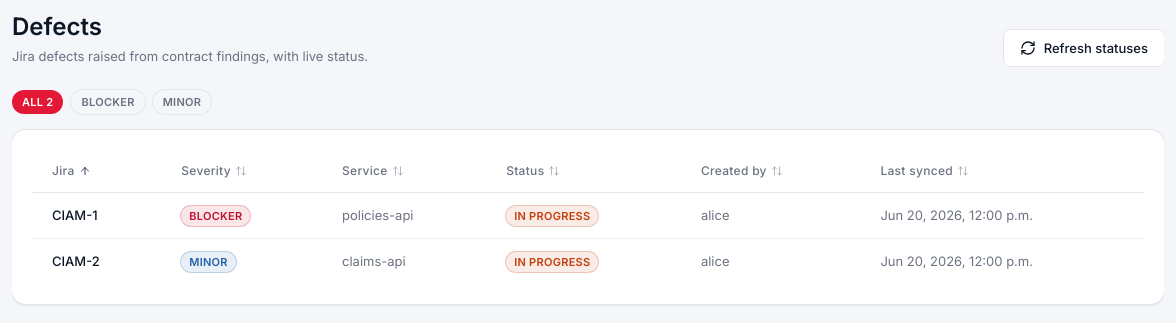
Scenario: Defects page › renders the severity + service columns and filters by a severity chip
Expected: the text "CIAM-1" is shown, [32,192,161,238]
Expected: the text "policies-api" is shown, [322,192,486,238]
Note: Filter to BLOCKER via its chip → only the blocker row survives.
Click the button "Blocker": (108, 102) [72,90,145,114]
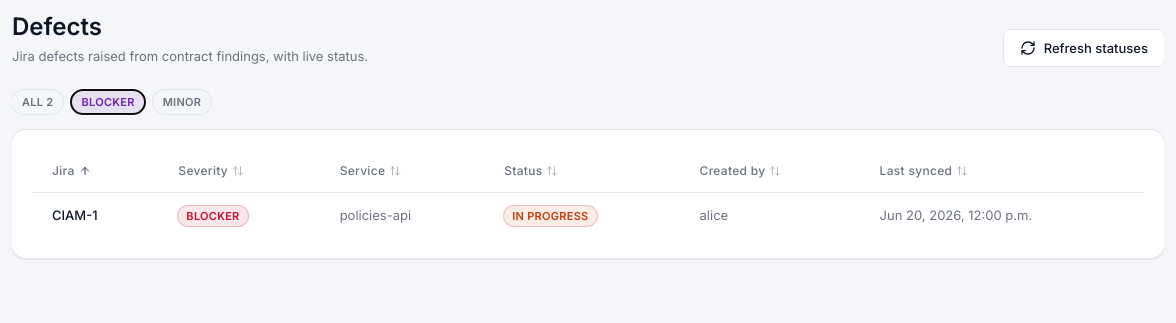
Expected: the text "CIAM-1" is shown, [32,192,158,238]
Result: the text "CIAM-2" is gone
